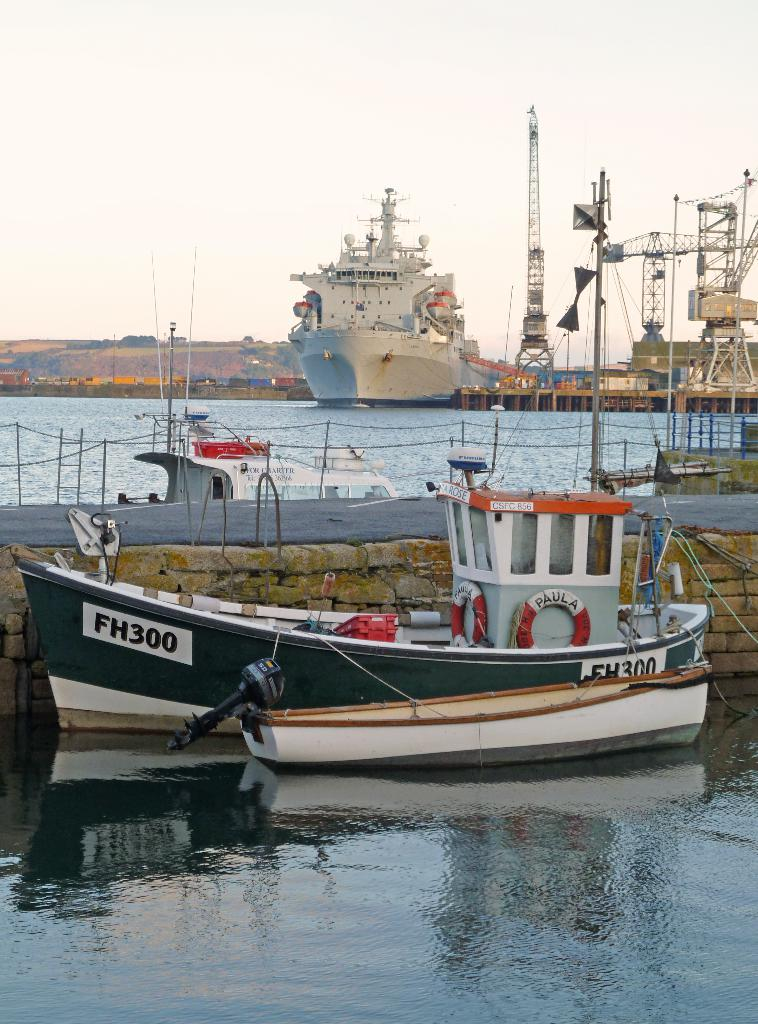boat: (3, 447, 733, 760), (180, 649, 719, 797), (280, 163, 500, 425)
